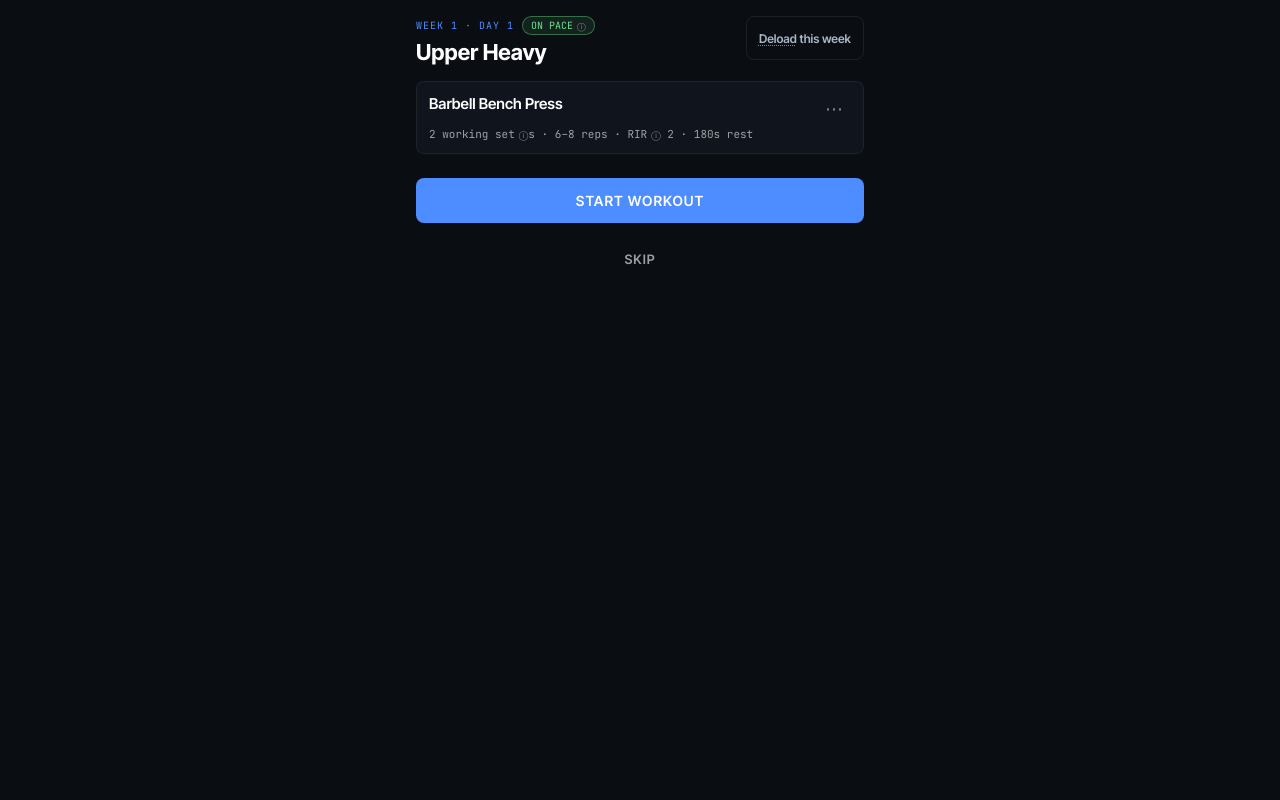
Test case: <TodayWorkoutMobile> › opens MidSessionSwapPicker pre-loaded with injury context when "Got a tweak?" is tapped
Expected: the heading "Upper Heavy" is shown, [416,39,547,65]
What coordinates should you click on to do the following:
click the button named "more options"
I would click on:
 (834, 108)
Its box is [817,94,851,123].
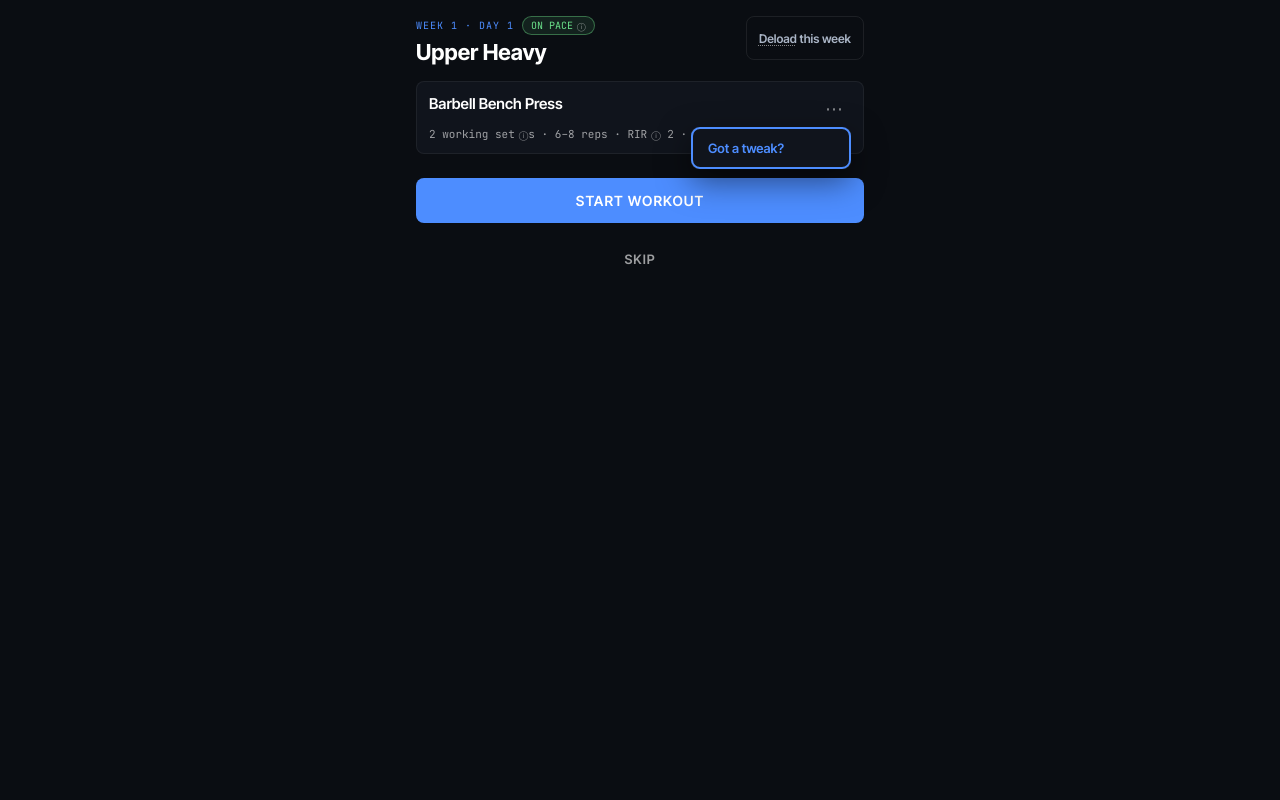
What coordinates should you click on to do the following:
click the menu item "Got a tweak?"
I would click on:
 (771, 148)
Its box is [696,132,846,164].
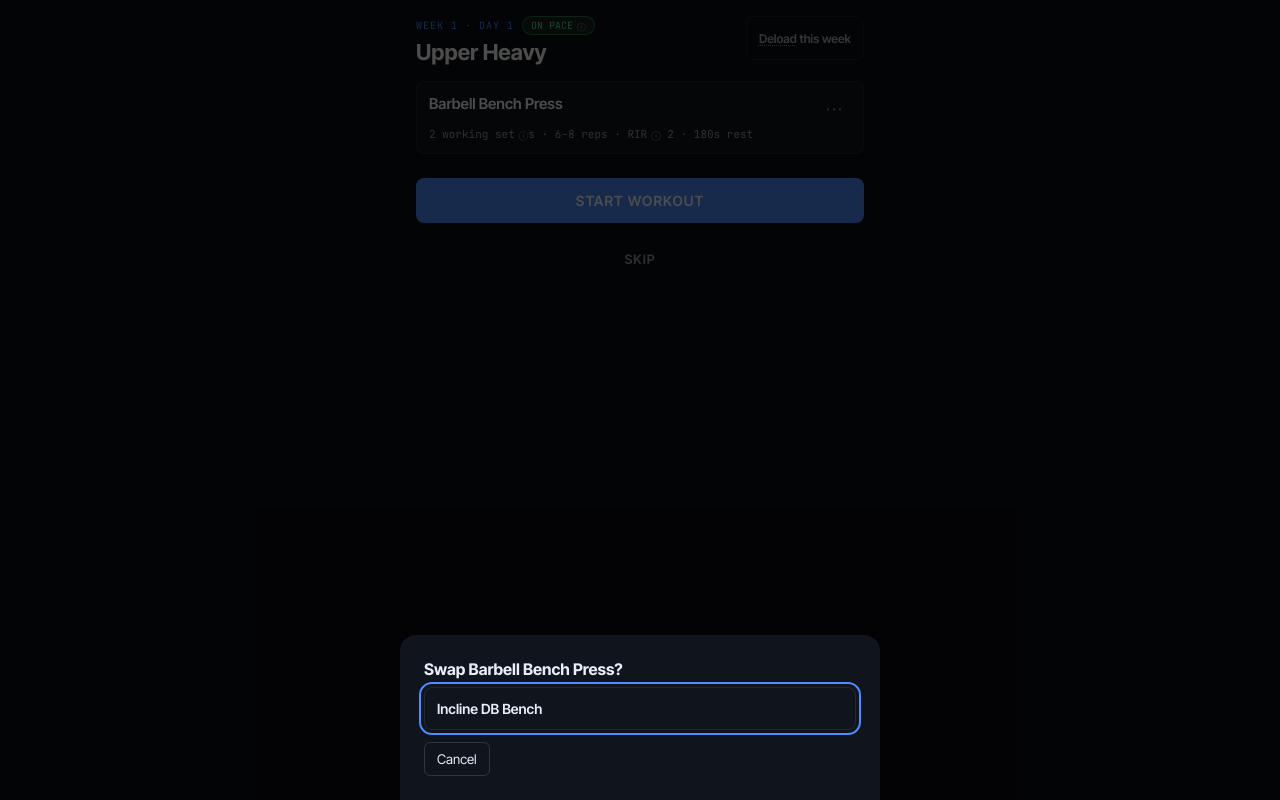
Expected: the dialog "Swap Barbell Bench Press? Incline DB Bench Cancel" is shown
